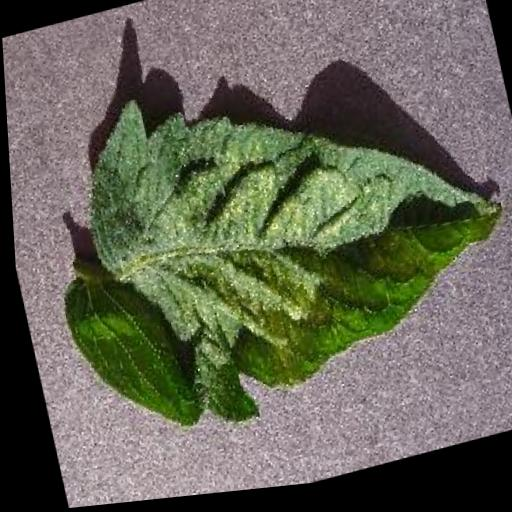Spider Mites: (18, 22, 512, 466)
